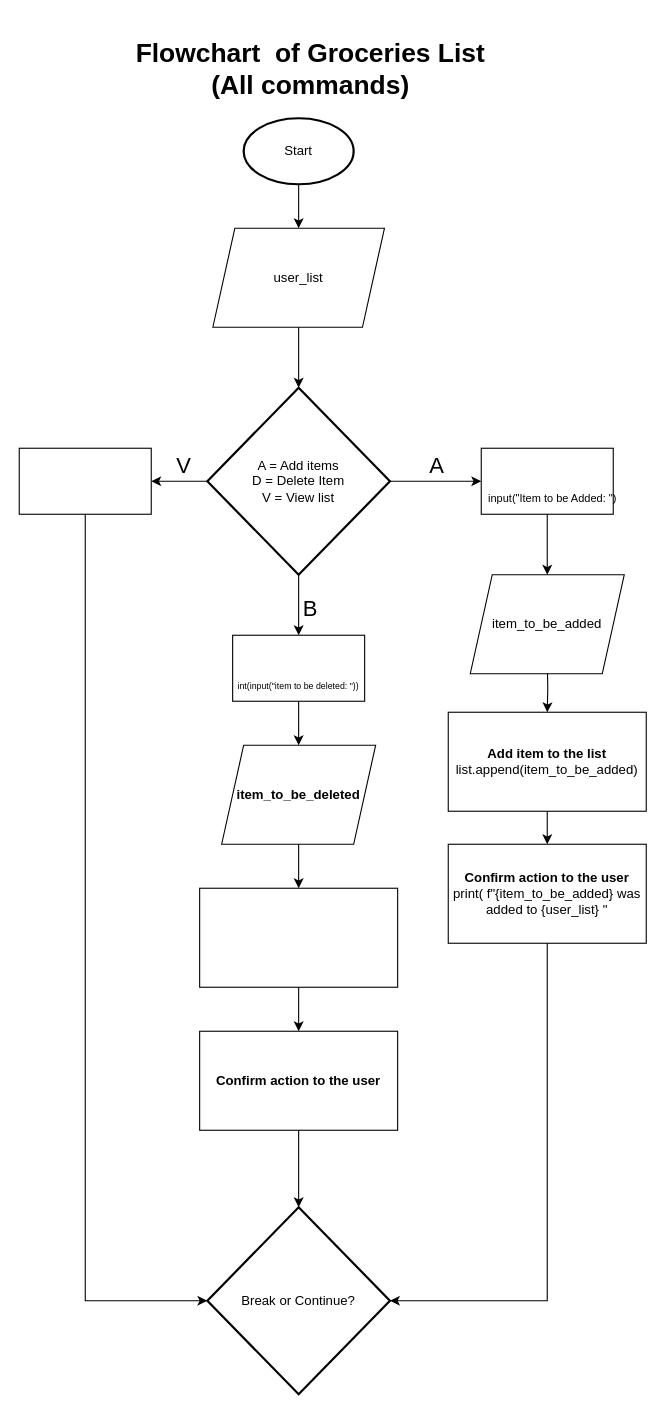
Some shapes in this 666 by 1414 pixel diagram are drawn without their labels. The shapes that lost their labels are listed below. From the top down, each one's box as (x1, y1, x2, y2) in pixels, then its label:
(18, 447, 151, 514): Show enumerated list
(480, 447, 613, 514): Order item to be added
(232, 634, 365, 701): Delete Item
(199, 887, 398, 987): Delete item from the list
